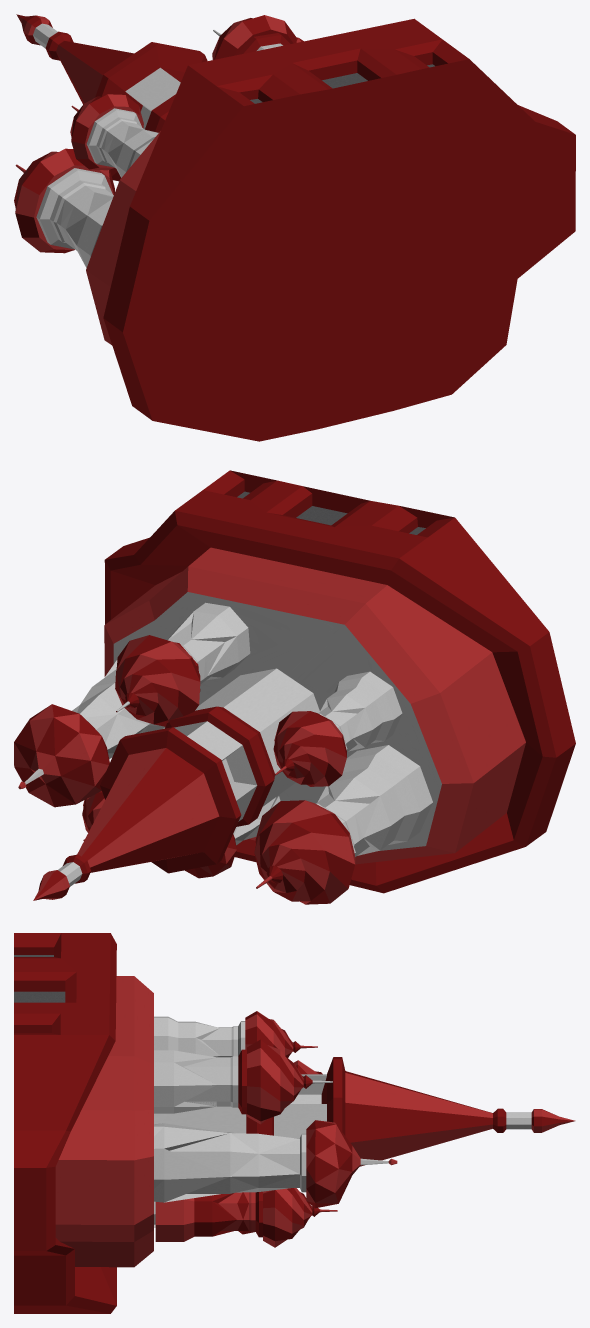
File: green_symbol_redhouse.FBX
The picture shows the model from 3 angles, top to bottom: view 1: azimuth 30°, elevation 25°; view 2: azimuth 150°, elevation 25°; view 3: azimuth 270°, elevation 25°; orthographic projection. The views are drawn at different scales.
Visible parts, largest first — view 1: statue_7; view 2: statue_7; view 3: statue_7.
Part boxes in pixels (x1,y1,x2,y2): statue_7: (14,14,575,441); statue_7: (14,470,575,904); statue_7: (14,933,575,1313).
Size of the model in its own units: 475 by 341 by 590.
